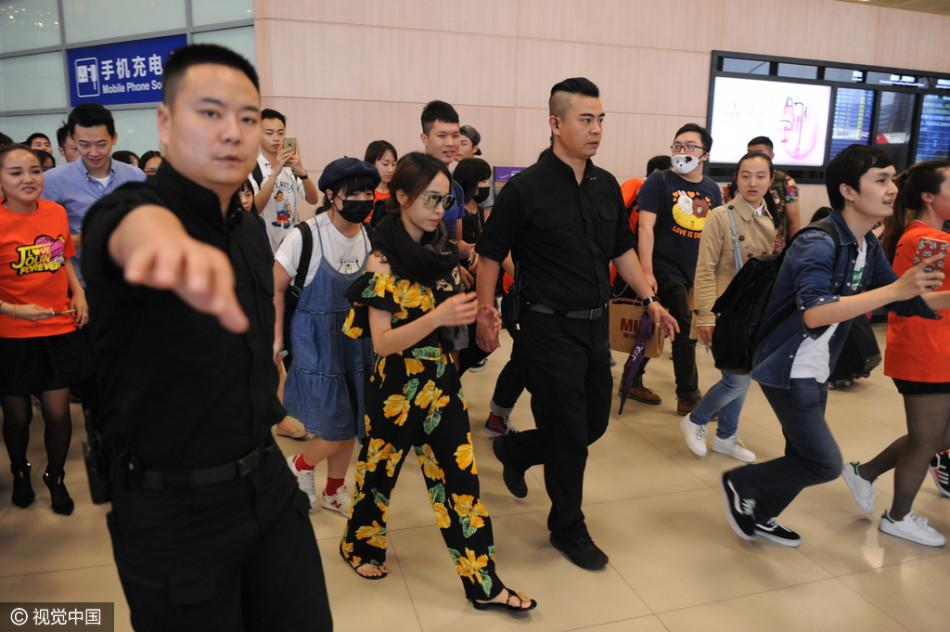NONE: (181, 90, 260, 184), (565, 105, 606, 158), (406, 185, 449, 234), (862, 168, 902, 219), (4, 163, 42, 201), (78, 134, 110, 170), (739, 168, 771, 202), (435, 128, 462, 163), (264, 126, 287, 155), (376, 155, 398, 184), (454, 137, 476, 162), (238, 190, 257, 217)
OK: (337, 181, 377, 221), (471, 176, 492, 204)
WRONG: (669, 135, 704, 172)
